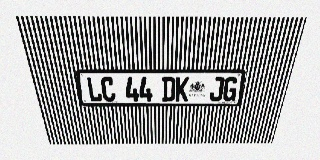4: (125, 77, 139, 101), (139, 77, 153, 101)
C: (100, 77, 116, 102)
D: (162, 77, 175, 101)
G: (222, 77, 239, 101)
J: (209, 77, 225, 101)
K: (175, 77, 189, 101)
L: (86, 77, 103, 102)
